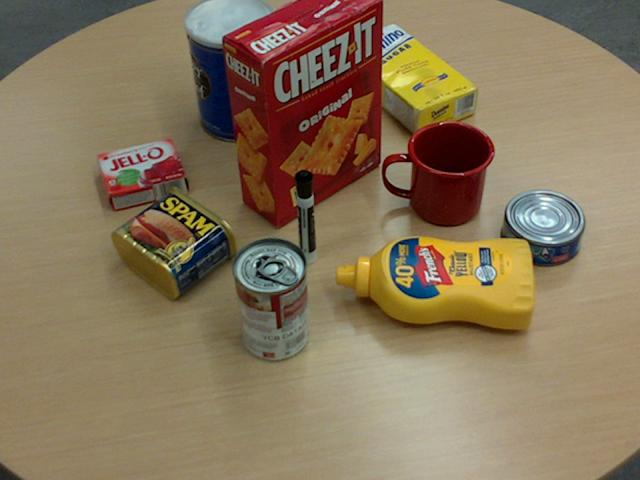cracker_box: (220, 0, 383, 226)
gelatin_box: (96, 136, 186, 208)
large_marker: (293, 170, 317, 265)
master_chef_can: (184, 0, 279, 141)
mug: (383, 119, 494, 225)
mustard_bottle: (335, 236, 534, 328)
potted_meat_can: (111, 185, 237, 298)
sugar_box: (338, 22, 478, 136)
tomato_soup_can: (230, 236, 308, 360)
tuna_fish_can: (500, 189, 584, 265)
